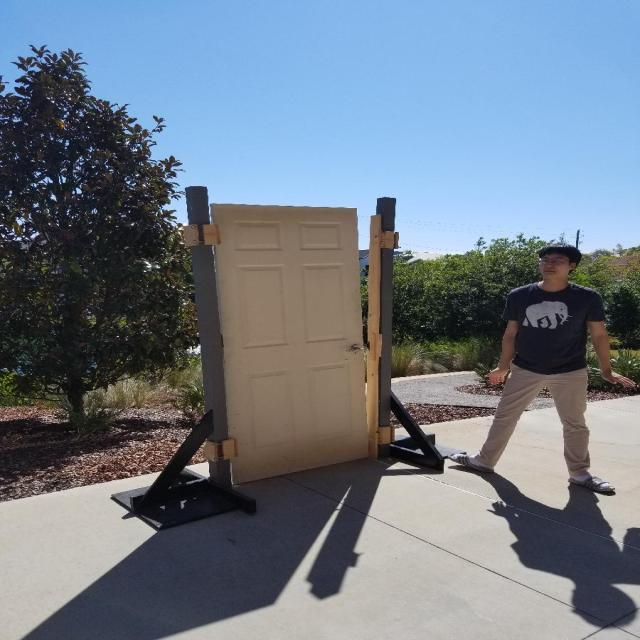door: (207, 200, 373, 490), (338, 342, 370, 360)
